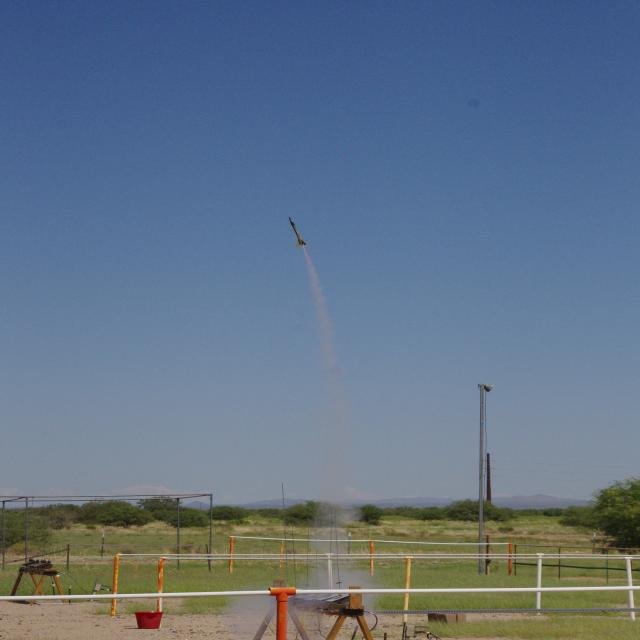Rocket: (288, 217, 308, 248)
